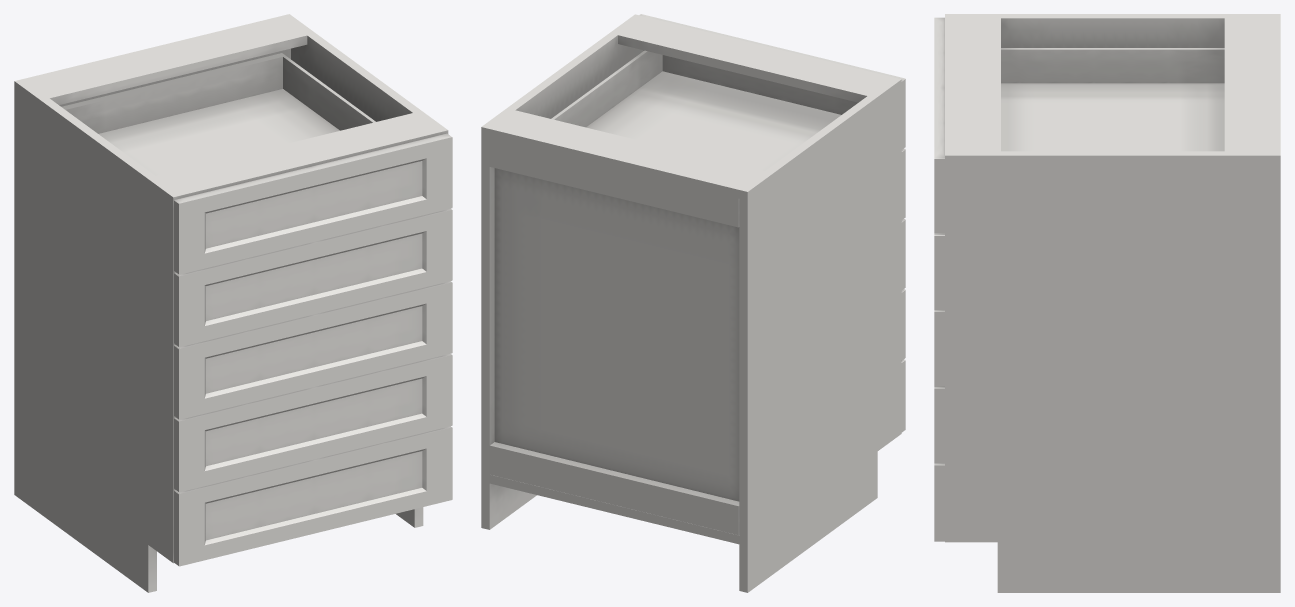
File: 5-drawer-equal-base-doors-on.glb
3 renders of one model, left to right at view 1: azimuth 30°, elevation 25°; view 2: azimuth 150°, elevation 25°; view 3: azimuth 270°, elevation 25°, orthographic. The views are drawn at different scales.
Parts seen in each view (by area): view 1: part_25, part_0, part_9; view 2: part_0, part_9, part_25; view 3: part_0, part_9, part_25.
Boxes of the visible parts, bbox=[...] form: part_25: bbox=[174, 133, 452, 566]; part_0: bbox=[14, 14, 448, 592]; part_9: bbox=[61, 53, 375, 175]; part_0: bbox=[481, 14, 901, 592]; part_9: bbox=[551, 50, 841, 170]; part_25: bbox=[639, 14, 905, 432]; part_0: bbox=[945, 14, 1280, 592]; part_9: bbox=[1001, 48, 1224, 151]; part_25: bbox=[934, 17, 944, 541].
Bounding box in the file's own units: 0.6096 × 0.8763 × 0.6286.
3 materials, 2 textured.
